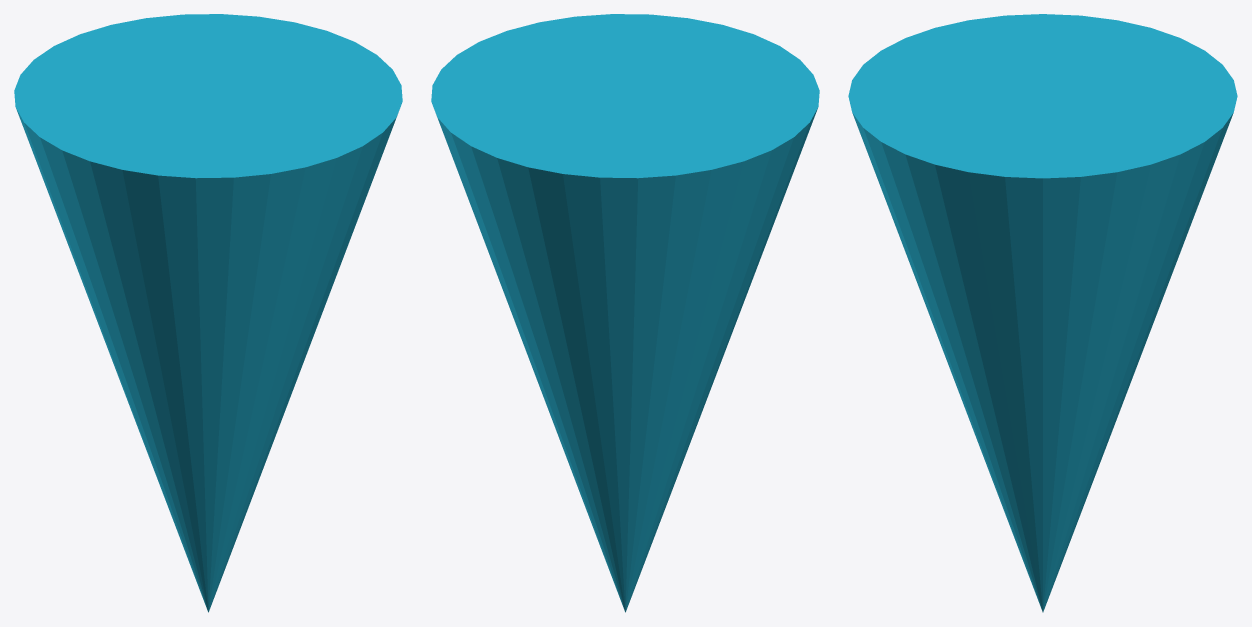
Rendered from ice.obj.
3 renders of one model, left to right at view 1: azimuth 30°, elevation 25°; view 2: azimuth 150°, elevation 25°; view 3: azimuth 270°, elevation 25°, orthographic.
Parts seen in each view (by area): view 1: 円錐; view 2: 円錐; view 3: 円錐.
Boxes of the visible parts, x1,y1,x2,y2 form: 円錐: (14, 14, 402, 612); 円錐: (431, 14, 819, 612); 円錐: (848, 14, 1237, 612).
Bounding box in the file's own units: 1.24 × 1.81 × 1.24.
1 material, 1 textured.
